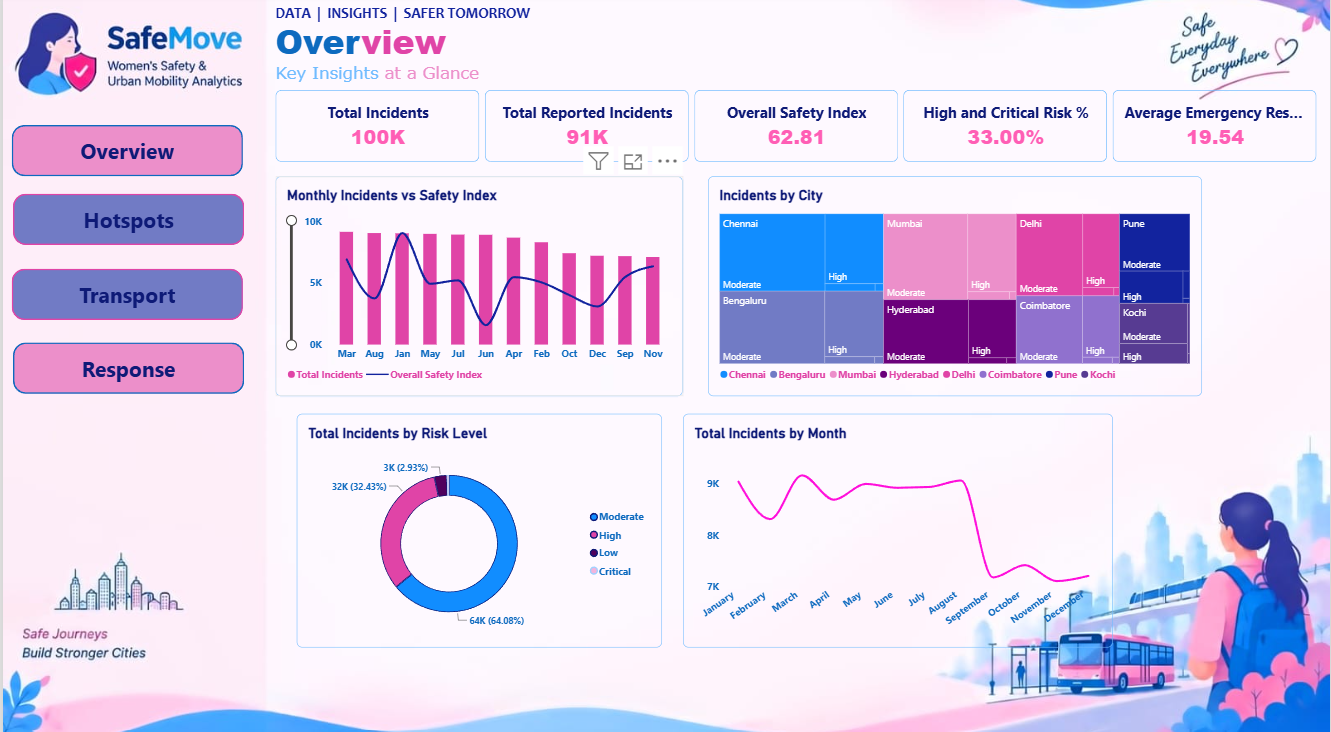

This screenshot's page, from the dashboard's own definition file:
{"tool":"powerbi","page":{"name":"Overview","canvas":[1920,1080],"ordinal":0},"visuals":[{"type":"textbox","box":[394.5,12.7,1046,39.8],"z":0},{"type":"textbox","box":[394.5,32.6,305.8,81.4],"z":1000},{"type":"textbox","box":[394.5,97.7,504.9,39.8],"z":2000},{"type":"cardVisual","fields":{"Data":["db.Total Incidents","db.Total Reported Incidents","db.Overall Safety Index","db.High and Critical Risk %","db.Average Emergency Response Time"]},"box":[394.5,137.5,1511.1,105],"z":3000},{"type":"lineClusteredColumnComboChart","title":"Monthly Incidents vs Safety Index","fields":{"Category":["db.Month_Name"],"Y":["db.Total Incidents"],"Y2":["db.Overall Safety Index"]},"box":[394.5,262.4,589.9,318.5],"z":4000},{"type":"lineChart","title":"Total Incidents by Month","fields":{"Category":["DateTable.Month Name"],"Y":["db.Total Incidents"]},"box":[984.5,606.2,622.5,338.4],"z":5000},{"type":"donutChart","title":"Total Incidents by Risk Level","fields":{"Category":["db.Risk_Level"],"Y":["db.Total Incidents"]},"box":[425.3,606.2,528.4,338.4],"z":6000},{"type":"treemap","title":"Incidents by City","fields":{"Details":["db.Risk_Level"],"Group":["db.City"],"Values":["db.Total Incidents"]},"box":[1020.6,262.4,714.8,318.5],"z":7000},{"type":"shape","box":[12.7,188.2,334.8,74.2],"z":8000},{"type":"shape","box":[14.5,287.7,334.8,74.2],"z":9000},{"type":"shape","box":[12.7,396.3,334.8,74.2],"z":10000},{"type":"shape","box":[14.5,503.1,334.8,74.2],"z":11000},{"type":"textbox","box":[13,0,335,150],"z":12000}]}

Visuals, with their boxes on the page's 1920x1080 design canvas (x1, y1, x2, y2). These are canvas units, not pixel positions in the 1331x732 screenshot, which may show the page scaled, cropped or inside an application window:
textbox: 394 13 1440 52
textbox: 394 33 700 114
textbox: 394 98 899 138
cardVisual - db.Total Incidents x db.Total Reported Incidents: 394 138 1906 242
"Monthly Incidents vs Safety Index" lineClusteredColumnComboChart: 394 262 984 581
"Total Incidents by Month" lineChart: 984 606 1607 945
"Total Incidents by Risk Level" donutChart: 425 606 954 945
"Incidents by City" treemap: 1021 262 1735 581
shape: 13 188 348 262
shape: 14 288 349 362
shape: 13 396 348 470
shape: 14 503 349 577
textbox: 13 0 348 150
